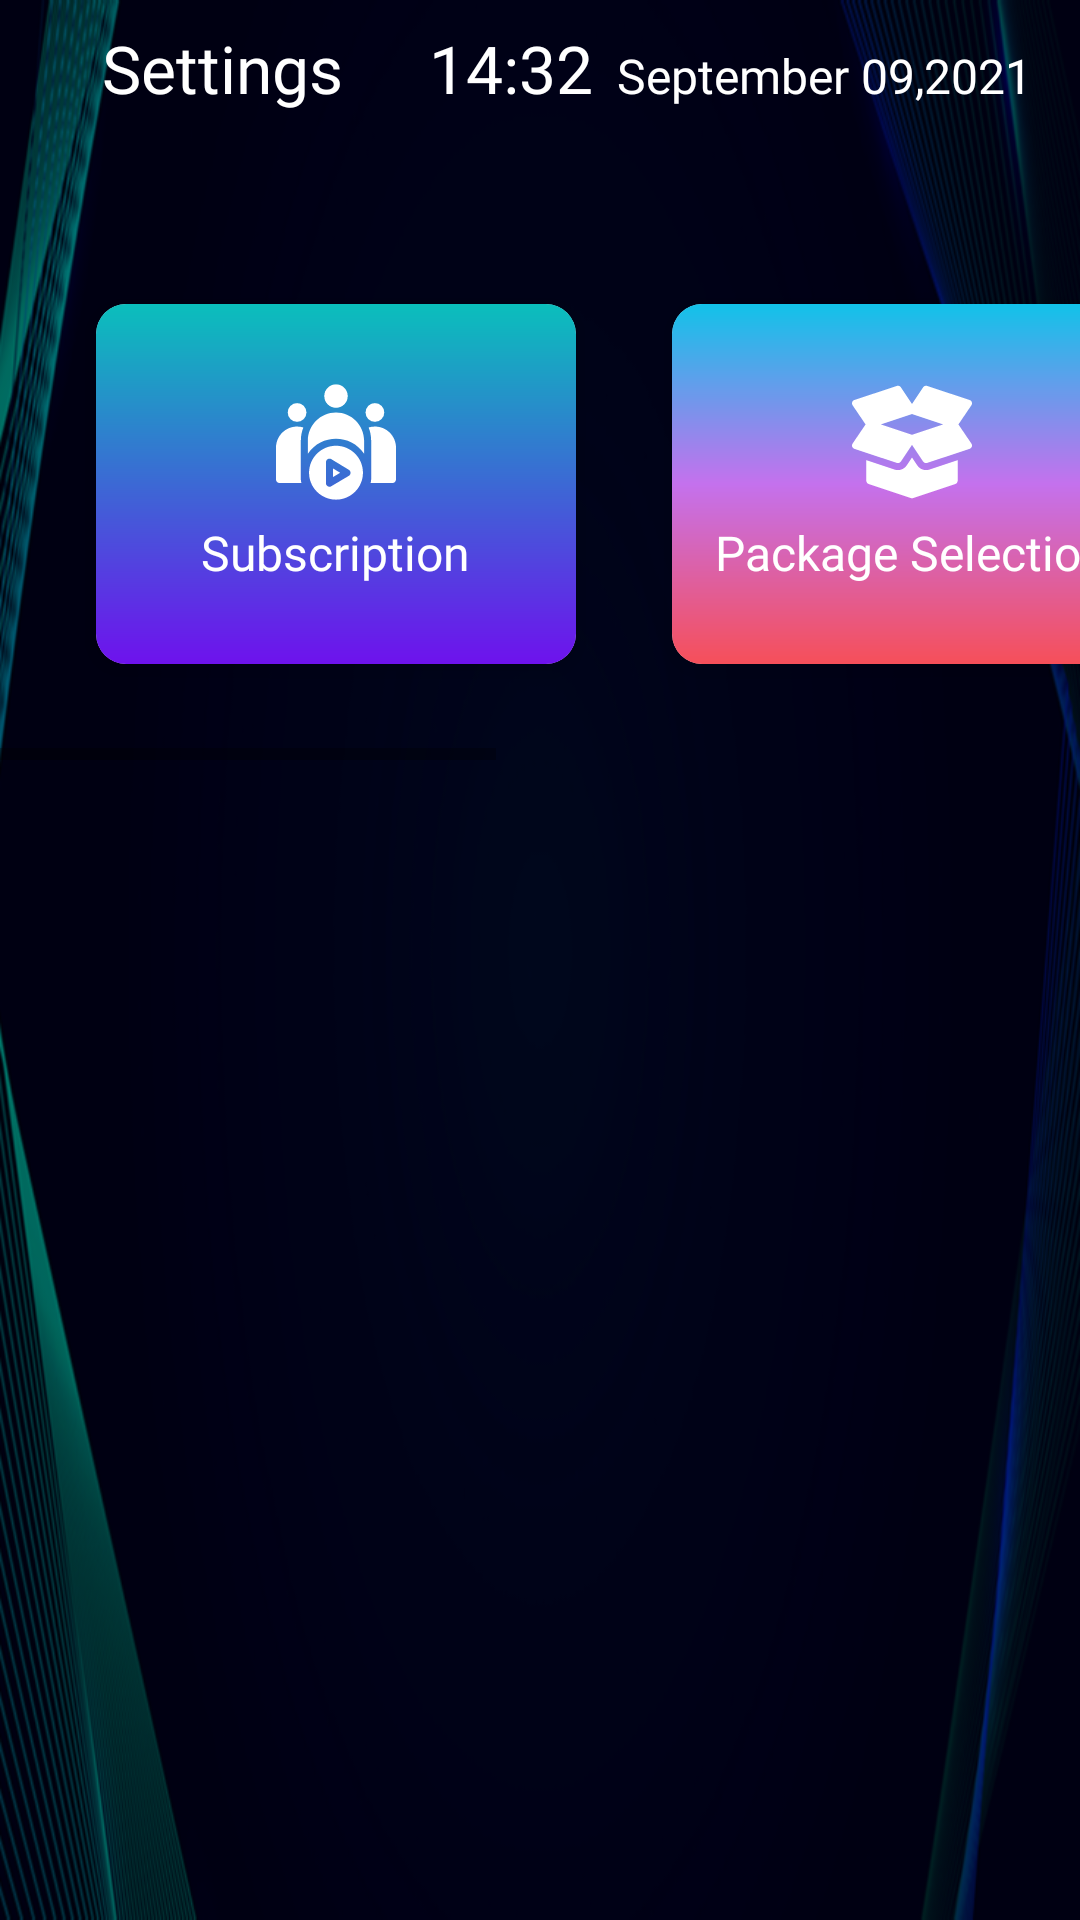

Point at icon controls on the screen. Image size 1080 x 1920, points as [x,y].
subscriber: [336,442]
